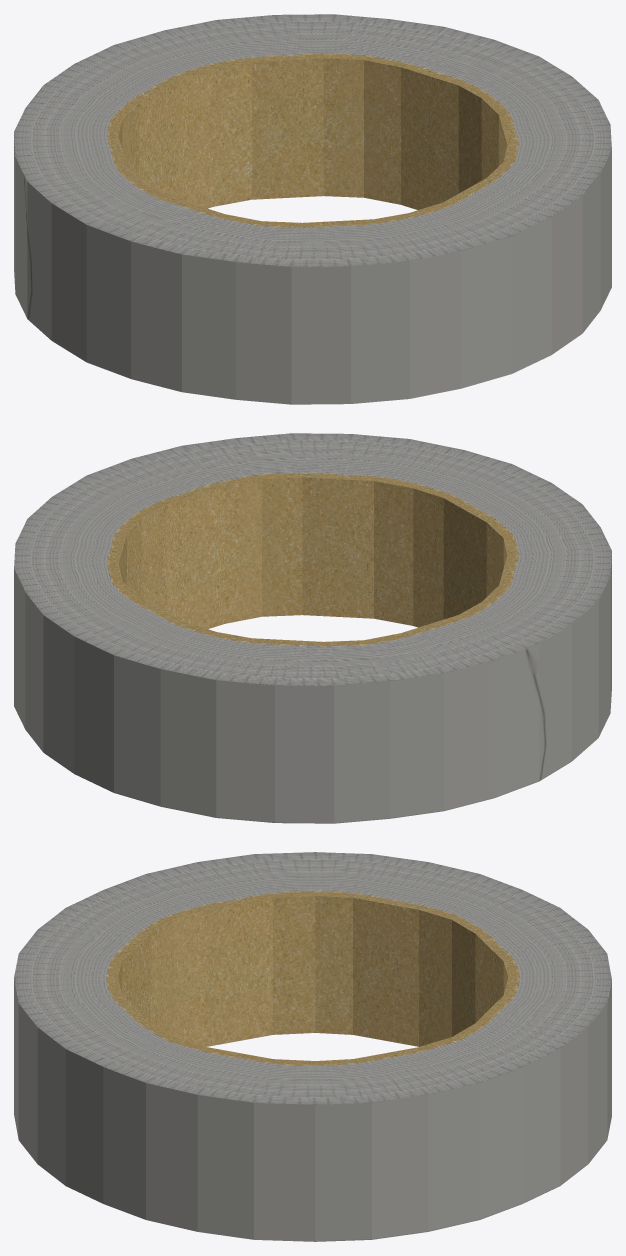
Rendered from Duct Tape.fbx.
The picture shows the model from 3 angles, top to bottom: view 1: azimuth 30°, elevation 25°; view 2: azimuth 150°, elevation 25°; view 3: azimuth 270°, elevation 25°; orthographic projection.
Visible parts, largest first — view 1: transform1; view 2: transform1; view 3: transform1.
Boxes of the visible parts, x1=… form: transform1: x1=14, y1=14, x2=611, y2=404; transform1: x1=14, y1=433, x2=611, y2=823; transform1: x1=14, y1=852, x2=611, y2=1241.
Bounding box in the file's own units: 0.4025 × 0.1018 × 0.4025.
1 material, 1 textured.
